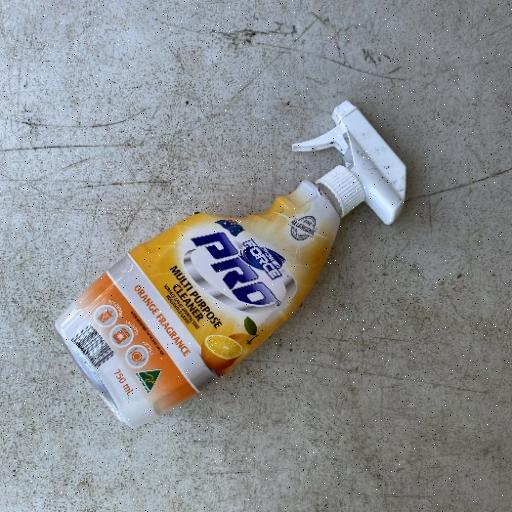Plastic: (52, 98, 410, 430)
